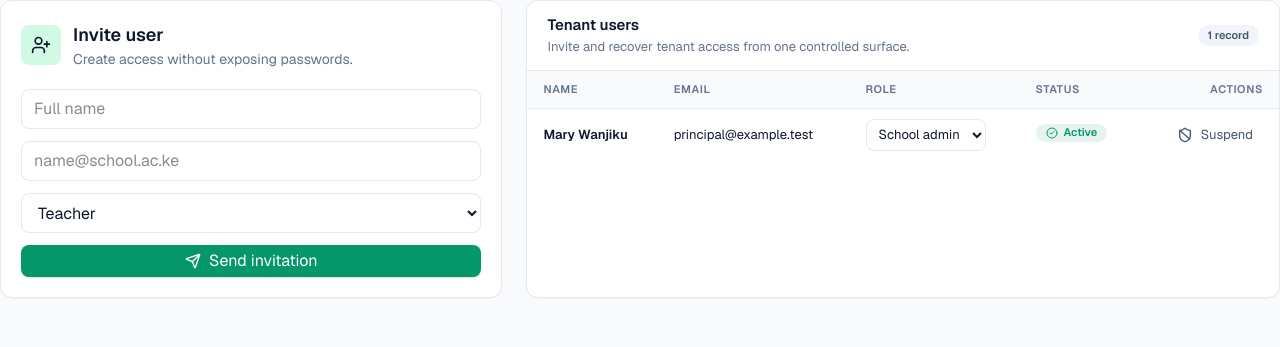
school user management › persists member role changes through the tenant user proxy
The width and height of the screenshot is (1280, 347).
Select "Teacher" in the dropdown named "role for mary wanjiku" at (926,134), box [866,118,986,150]
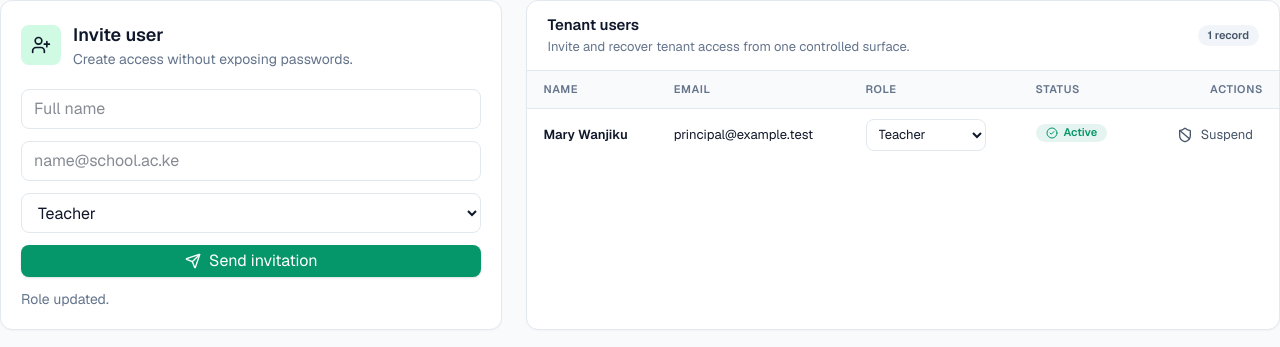
Expected: the dropdown showing "Teacher" is shown, [21,193,481,233]
Now the text "Role updated." is shown, box [21,290,109,308]
